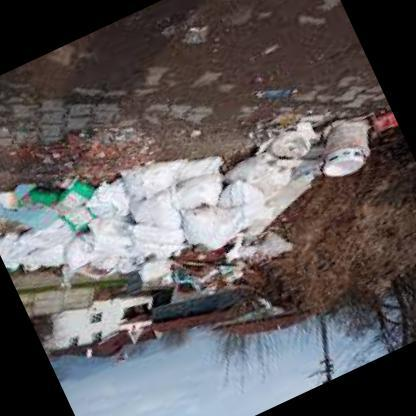Garbage: (249, 53, 314, 107), (361, 96, 399, 140)
